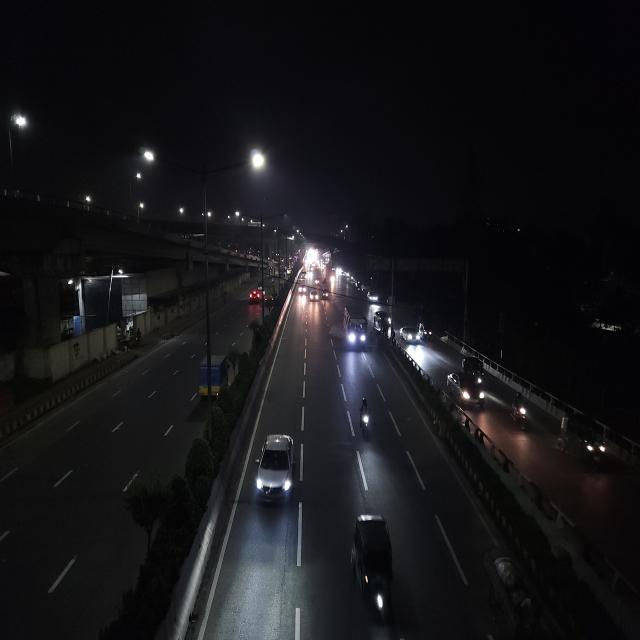bus: (342, 303, 368, 354)
car: (252, 431, 296, 511), (444, 369, 488, 411), (401, 325, 421, 346), (373, 310, 392, 326), (249, 286, 265, 304), (366, 290, 380, 305), (296, 283, 306, 299), (310, 286, 318, 303)
cng: (349, 508, 396, 628), (556, 412, 610, 464), (460, 352, 488, 384), (421, 321, 434, 345), (322, 288, 329, 300)
motorcycle: (508, 392, 532, 431), (356, 394, 374, 443)
pedestrian: (383, 319, 390, 338), (380, 318, 384, 334)
truck: (195, 346, 237, 401)
